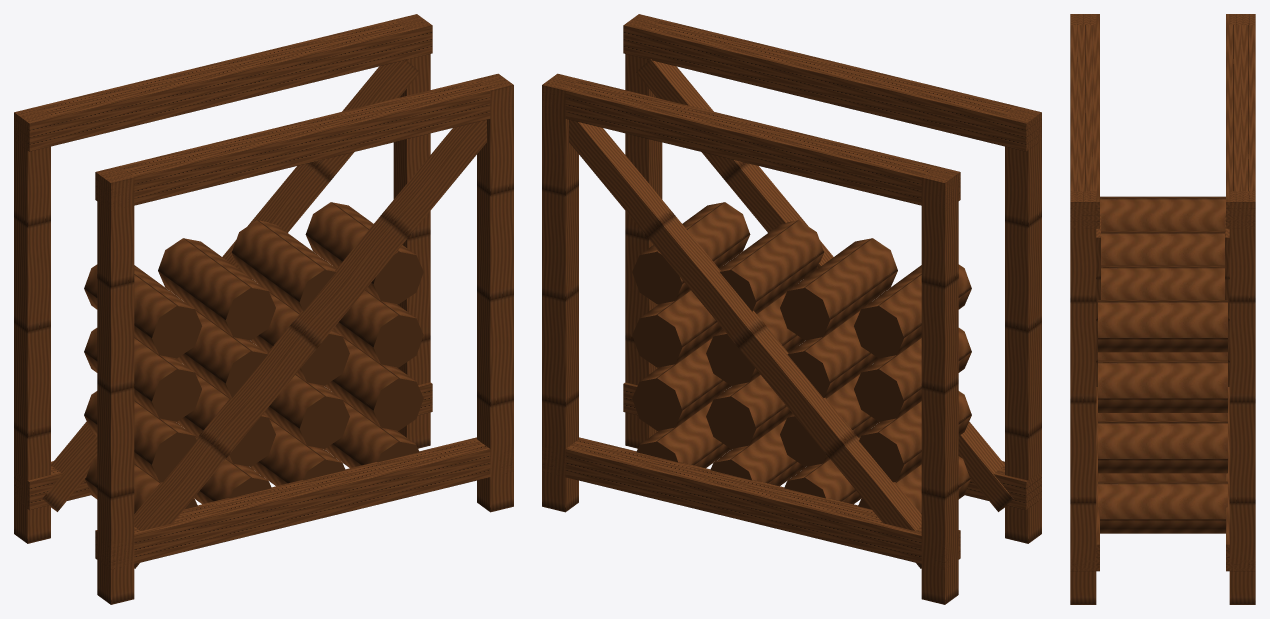
File: modular-survival-base-builder-firewood-wall-rack-39942c6e__24263.glb
3 renders of one model, left to right at view 1: azimuth 30°, elevation 25°; view 2: azimuth 150°, elevation 25°; view 3: azimuth 270°, elevation 25°, orthographic. The views are drawn at different scales.
Visible parts, largest first — view 1: firewood-wall-rack; view 2: firewood-wall-rack; view 3: firewood-wall-rack.
Boxes of the visible parts, box(x1,y1,x2,y2) form: firewood-wall-rack: box(14, 14, 513, 604); firewood-wall-rack: box(542, 14, 1041, 604); firewood-wall-rack: box(1070, 14, 1255, 604).
Size of the model in its own units: 1.2 by 1.2 by 0.5.
1 material, 1 textured.
